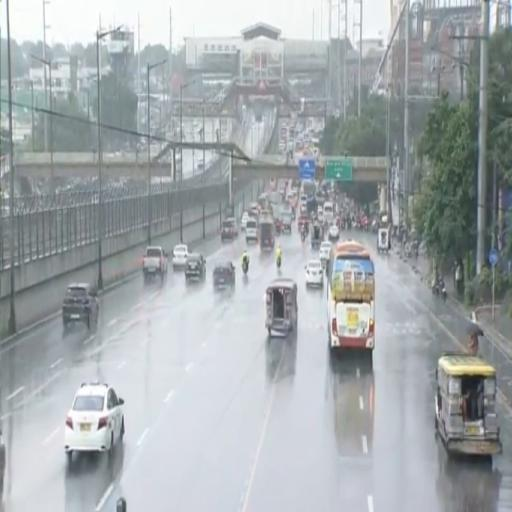bus: (327, 240, 375, 350)
car: (64, 382, 124, 462), (62, 283, 98, 329), (212, 261, 236, 289), (185, 253, 206, 281), (305, 259, 324, 287), (221, 219, 237, 241), (173, 245, 188, 268), (245, 218, 258, 243), (319, 241, 332, 266), (227, 217, 238, 236), (328, 226, 339, 242), (241, 212, 249, 231)
jeepney: (435, 352, 501, 456), (265, 278, 297, 338)
motorcycle: (431, 282, 440, 298), (439, 281, 446, 301), (242, 262, 248, 275), (276, 256, 281, 268), (301, 230, 305, 243)
truck: (143, 247, 167, 283)
